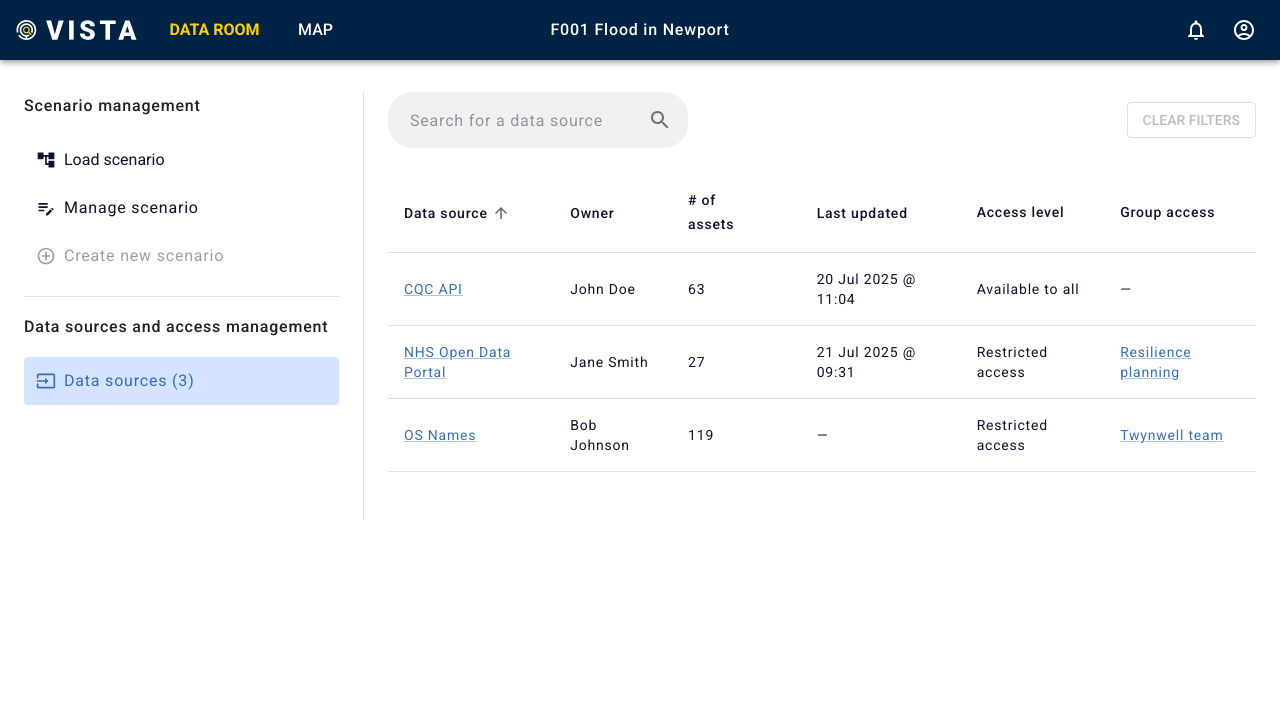
Test case: DataSources › Scenario Modal › loads scenario from sessionStorage on mount
The width and height of the screenshot is (1280, 720).
Expected: the link "CQC API" is shown, x1=404 y1=281 x2=463 y2=297
Click the button "Load scenario" at (114, 160), box x1=24 y1=136 x2=339 y2=184
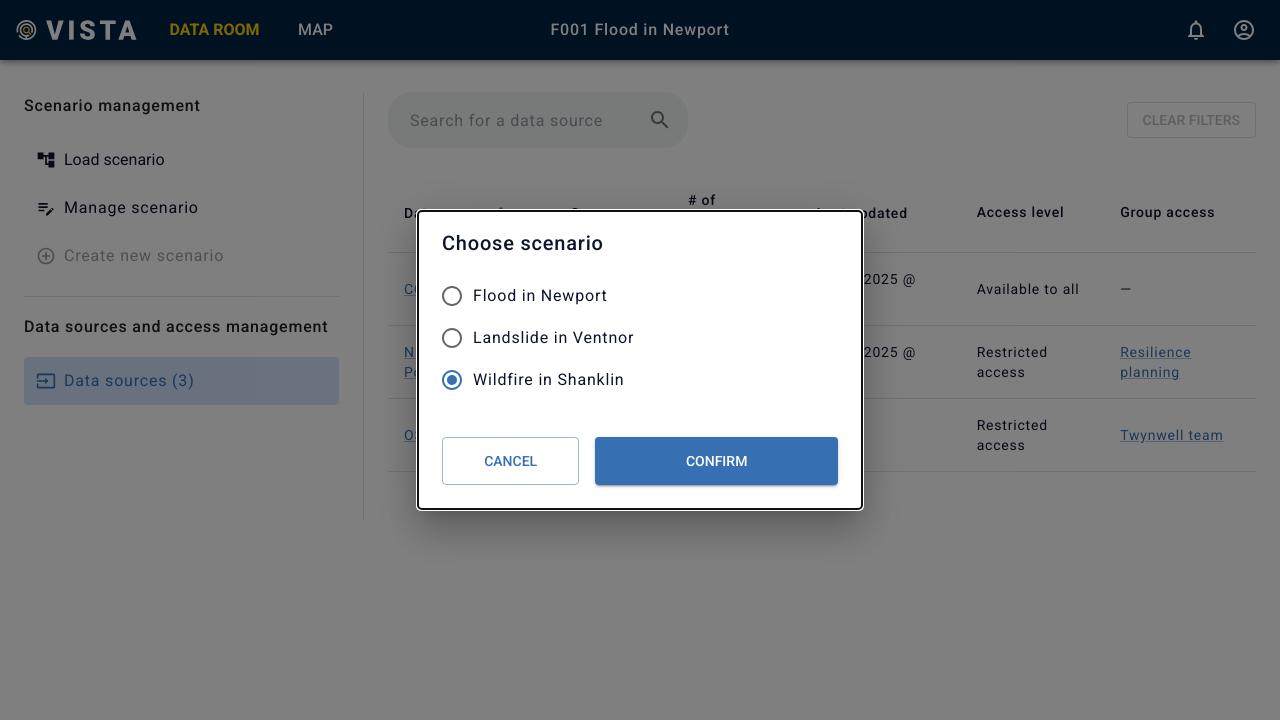
Result: the radio button labelled "Wildfire in Shanklin" is checked at x1=440 y1=368 x2=624 y2=392
